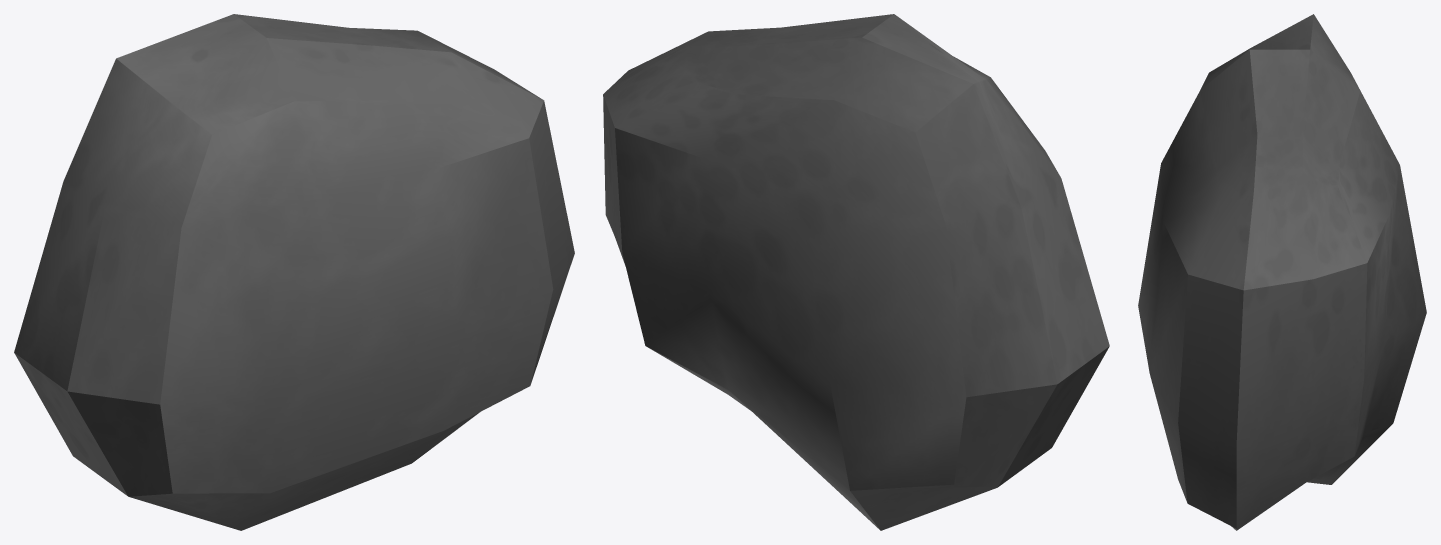
The model's file is Stone_01.fbx.
3 views of the same model, side by side, from view 1: azimuth 30°, elevation 25°; view 2: azimuth 150°, elevation 25°; view 3: azimuth 270°, elevation 25° (orthographic). The views are drawn at different scales.
Parts seen in each view (by area): view 1: Stone; view 2: Stone; view 3: Stone.
Part boxes in pixels (x1,y1,x2,y2): Stone: [14, 14, 574, 530]; Stone: [603, 14, 1109, 530]; Stone: [1138, 14, 1426, 530].
Size of the model in its own units: 0.5222 by 0.4757 by 0.2771.
Materials: 1 (1 with a texture image).
